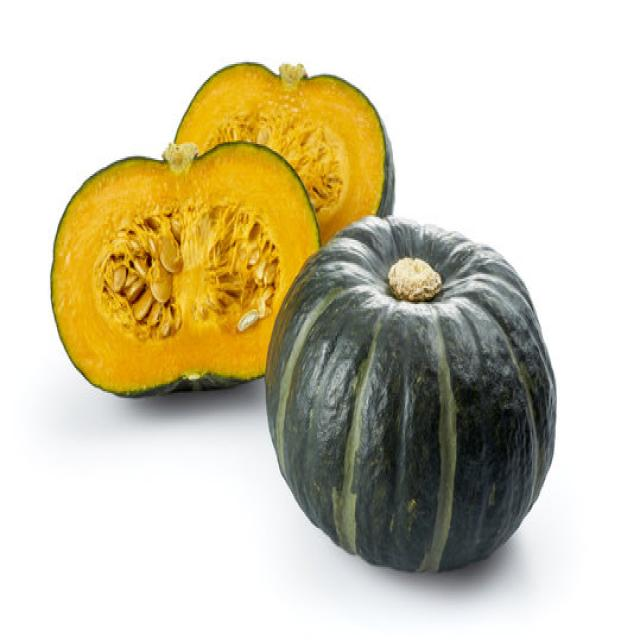Pumpkin: (263, 213, 557, 572), (48, 137, 322, 396), (172, 59, 396, 245)
